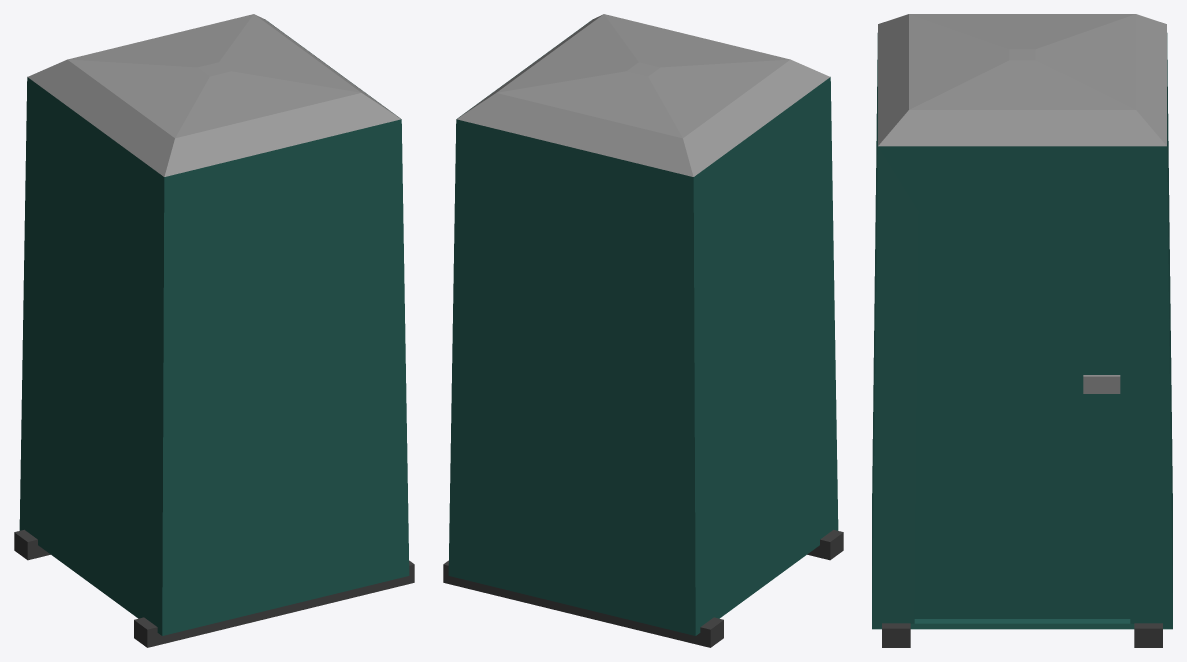
The model's file is PortableToilet.fbx.
3 renders of one model, left to right at view 1: azimuth 30°, elevation 25°; view 2: azimuth 150°, elevation 25°; view 3: azimuth 270°, elevation 25°, orthographic. The views are drawn at different scales.
Parts seen in each view (by area): view 1: Cube; view 2: Cube; view 3: Cube.
Boxes of the visible parts, <box> form: Cube: <box>14,14,414,647</box>; Cube: <box>443,14,843,647</box>; Cube: <box>872,14,1172,647</box>.
Size of the model in its own units: 121 by 215 by 112.
